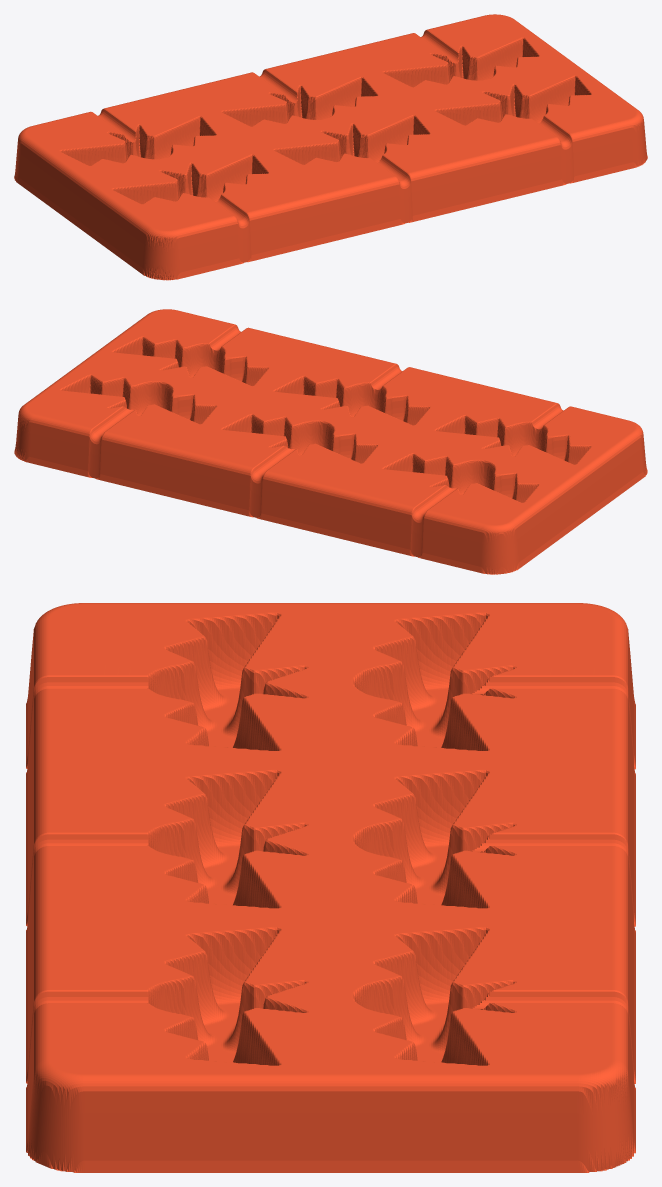
The model's file is mold.glb.
The picture shows the model from 3 angles, top to bottom: view 1: azimuth 30°, elevation 25°; view 2: azimuth 150°, elevation 25°; view 3: azimuth 270°, elevation 25°; orthographic projection. The views are drawn at different scales.
Visible parts, largest first — view 1: geometry_0; view 2: geometry_0; view 3: geometry_0.
Boxes of the visible parts, x1,y1,x2,y2 form: geometry_0: (14,14,647,280); geometry_0: (14,309,647,574); geometry_0: (26,603,635,1172).
Size of the model in its own units: 0.1824 by 0.0155 by 0.0961.
